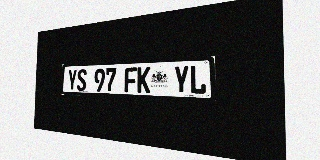7: (105, 68, 116, 92)
9: (94, 68, 105, 92)
F: (124, 67, 137, 92)
K: (137, 67, 150, 93)
L: (190, 65, 206, 94)
S: (77, 69, 87, 91)
Y: (173, 65, 189, 94), (67, 69, 77, 91)
